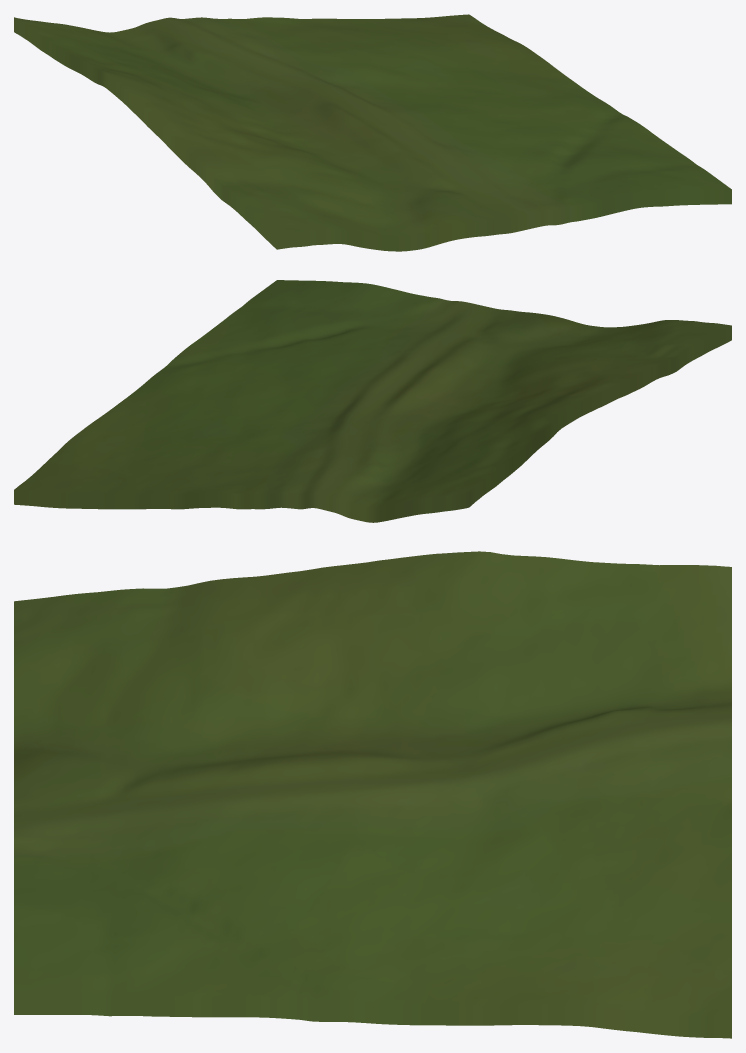
Rendered from terrain_8_-13.glb.
3 renders of one model, top to bottom at view 1: azimuth 30°, elevation 25°; view 2: azimuth 150°, elevation 25°; view 3: azimuth 270°, elevation 25°, orthographic. The views are drawn at different scales.
Parts seen in each view (by area): view 1: terrain_8_-13; view 2: terrain_8_-13; view 3: terrain_8_-13.
Part boxes in pixels (x1=…): terrain_8_-13: x1=14, y1=14, x2=731, y2=251; terrain_8_-13: x1=14, y1=280, x2=731, y2=522; terrain_8_-13: x1=14, y1=551, x2=731, y2=1038.
Bounding box in the file's own units: 256 × 72.27 × 256.
